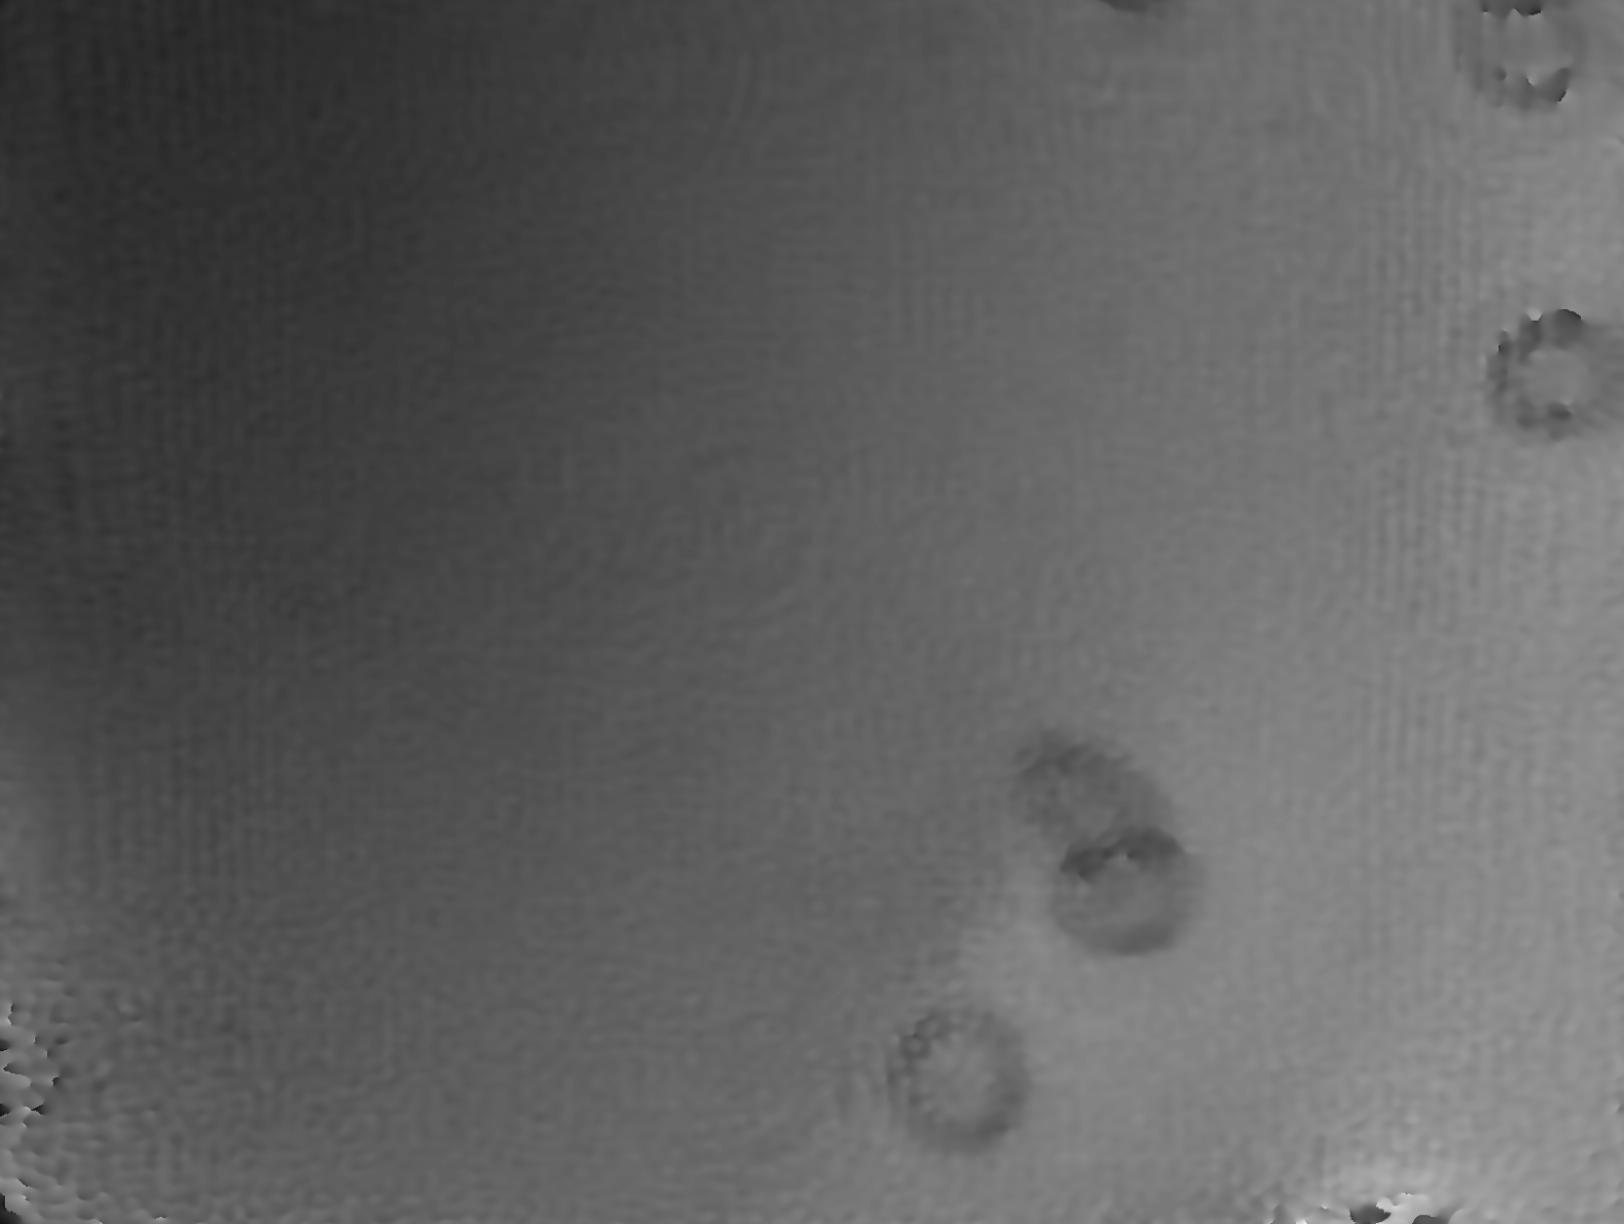cell: (838, 951, 1081, 1188), (977, 684, 1222, 903), (1017, 792, 1232, 998), (1429, 273, 1624, 483)
